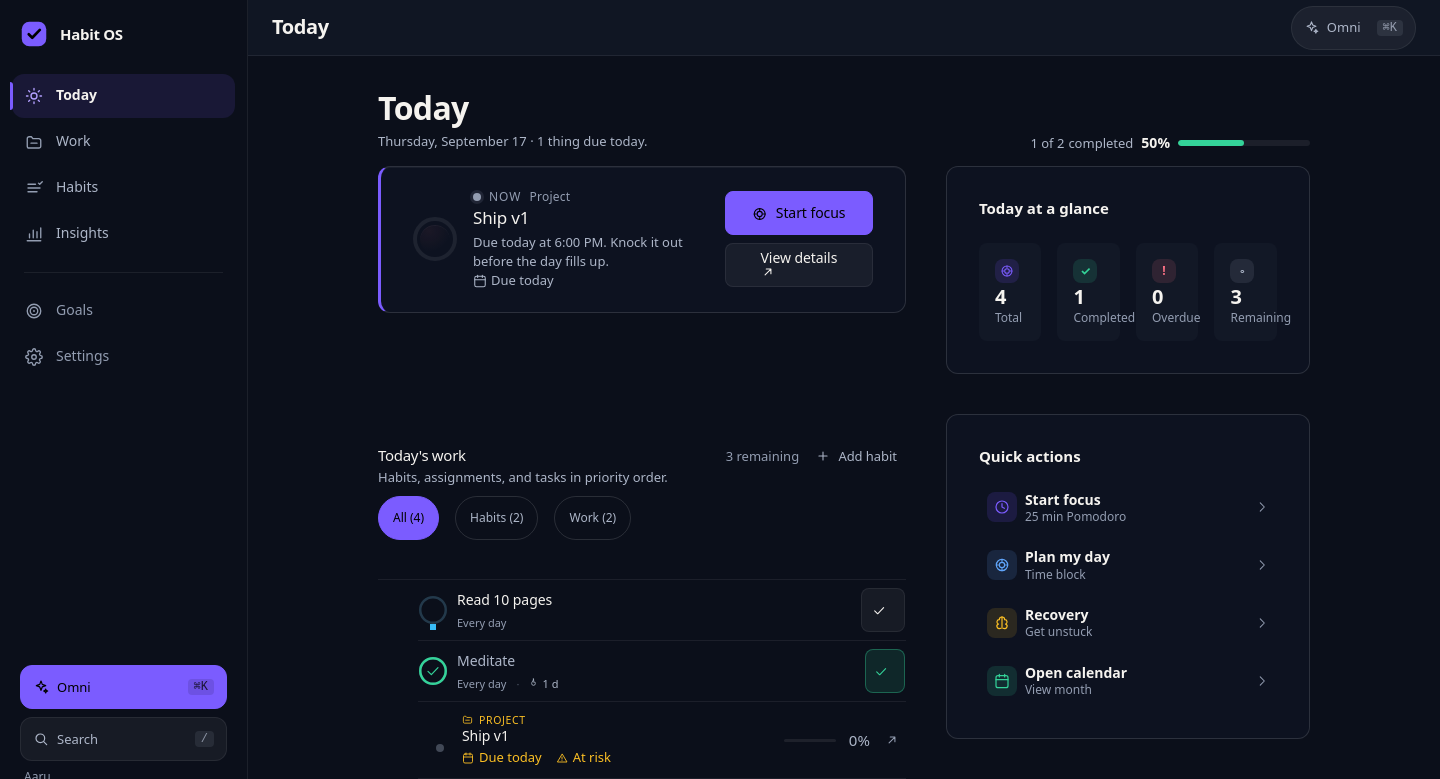
Scenario: §R5.2 FocusMode lifecycle on Today › View link inside FocusMode unmounts the panel (navigates away from focus)
Check: the heading "Today" is shown, box [378,86,469,129]
Click the button "Start focus 25 min Pomodoro".
click(1128, 508)  # box [979,483,1277,532]
(page scrolled)
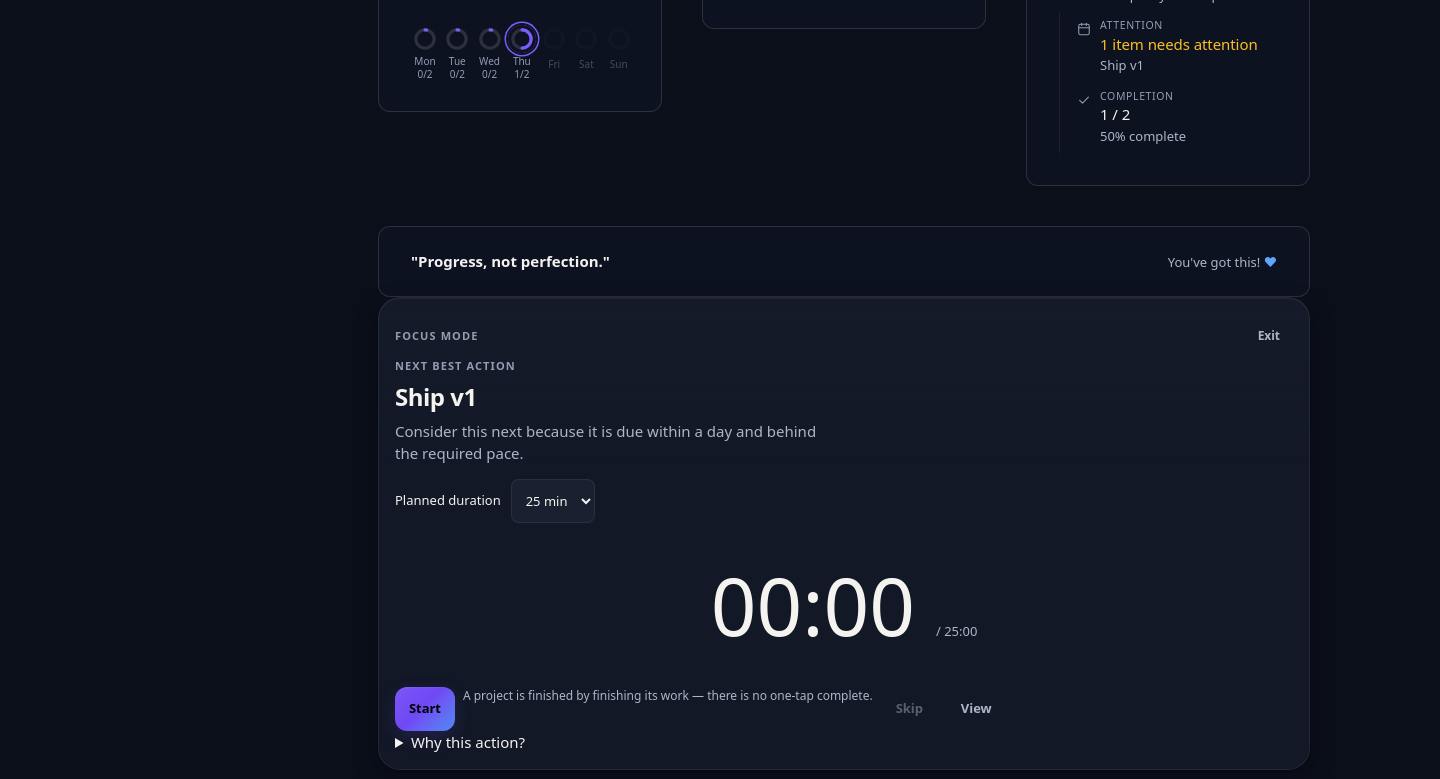
Check: the dialog with class "focus-mode" is shown, box [378,297,1310,770]
Click the link "View".
click(976, 708)  # box [961,699,992,717]
(page scrolled)
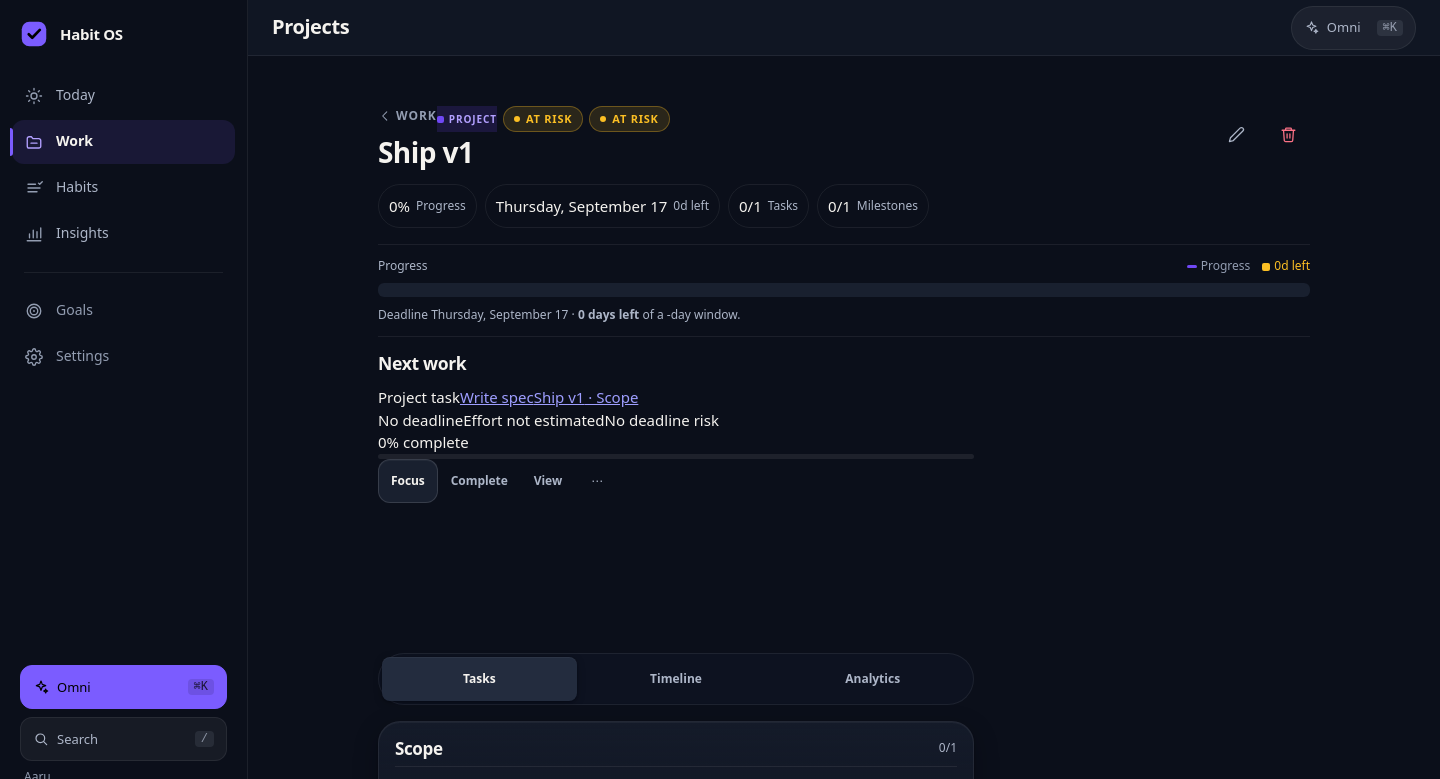
Check: the dialog with class "focus-mode" is gone
